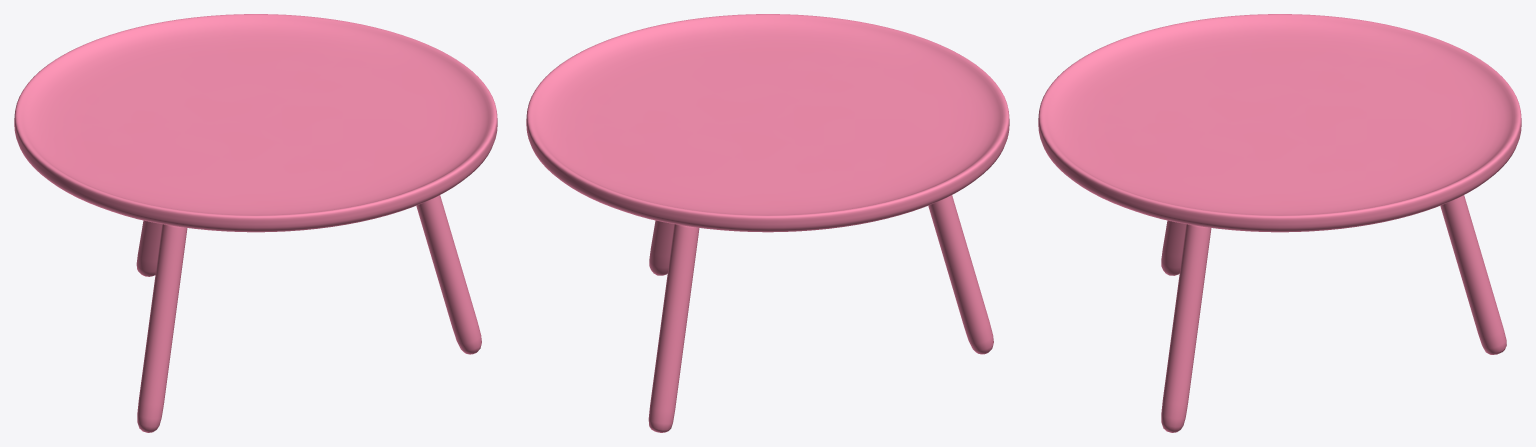
File: MESA_COCINA.obj
The picture shows the model from 3 angles, left to right: view 1: azimuth 30°, elevation 25°; view 2: azimuth 150°, elevation 25°; view 3: azimuth 270°, elevation 25°; orthographic projection.
Parts seen in each view (by area): view 1: normann_tablo_table_a+studio; view 2: normann_tablo_table_a+studio; view 3: normann_tablo_table_a+studio.
Part boxes in pixels (x1=…): normann_tablo_table_a+studio: x1=14, y1=14, x2=497, y2=432; normann_tablo_table_a+studio: x1=526, y1=14, x2=1009, y2=432; normann_tablo_table_a+studio: x1=1038, y1=14, x2=1521, y2=432.
Size of the model in its own units: 1.41 by 0.7676 by 1.41.
1 material, 1 textured.
